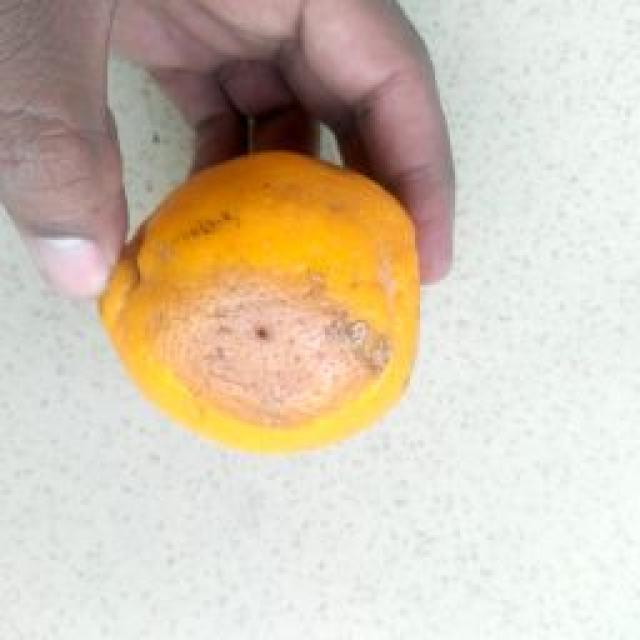Bad_Orange: (99, 152, 419, 452)
